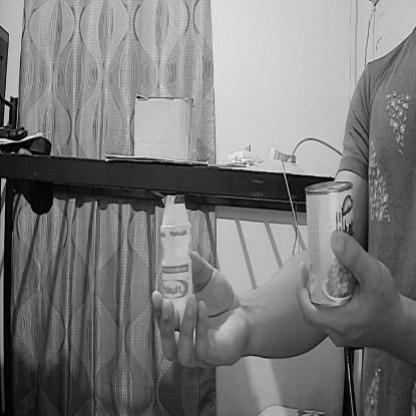Can: (306, 177, 356, 308)
Others: (157, 192, 199, 336)
